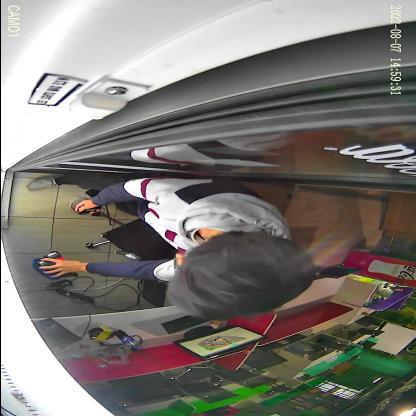blue: (32, 258, 62, 280)
red: (43, 250, 78, 278)
